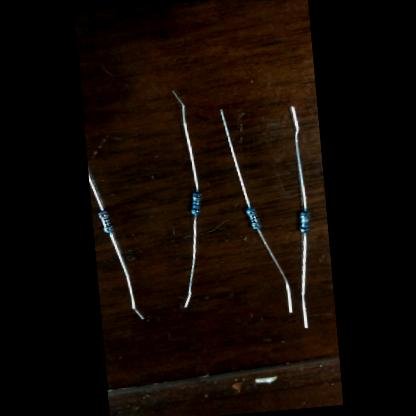resistor: (245, 207, 261, 229), (96, 210, 112, 232), (188, 191, 202, 215), (298, 210, 310, 233)
wire: (218, 107, 249, 208), (108, 229, 142, 320), (257, 227, 290, 314), (172, 88, 198, 191), (176, 214, 204, 306), (294, 233, 313, 327), (290, 106, 306, 210), (88, 168, 104, 210)
